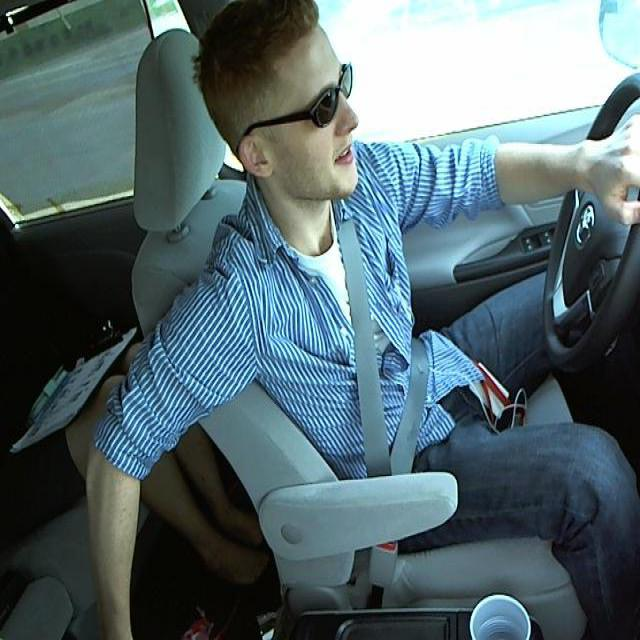seatbelt: (334, 224, 432, 460)
